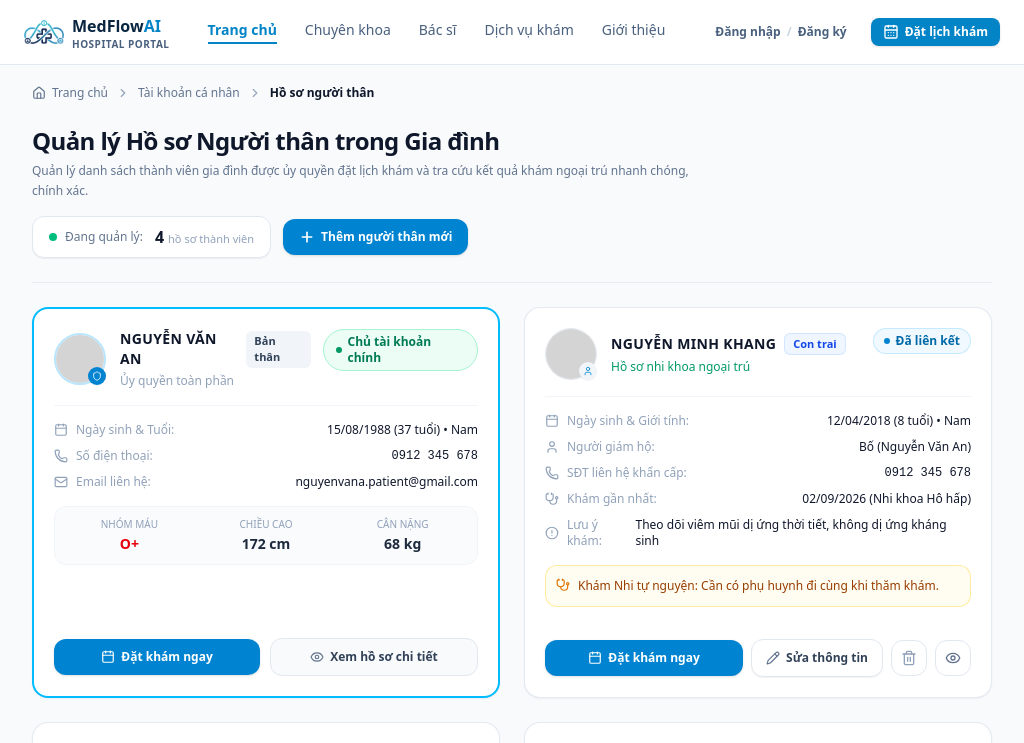
Test: Remove Family Profile (M2-001) › cho phép mở modal gỡ liên kết từ nút icon thùng rác trên trang danh sách
The width and height of the screenshot is (1024, 743).
Click the button named "Gỡ liên kết NGUYỄN MINH KHANG" at (909, 658), box [891, 640, 927, 676]
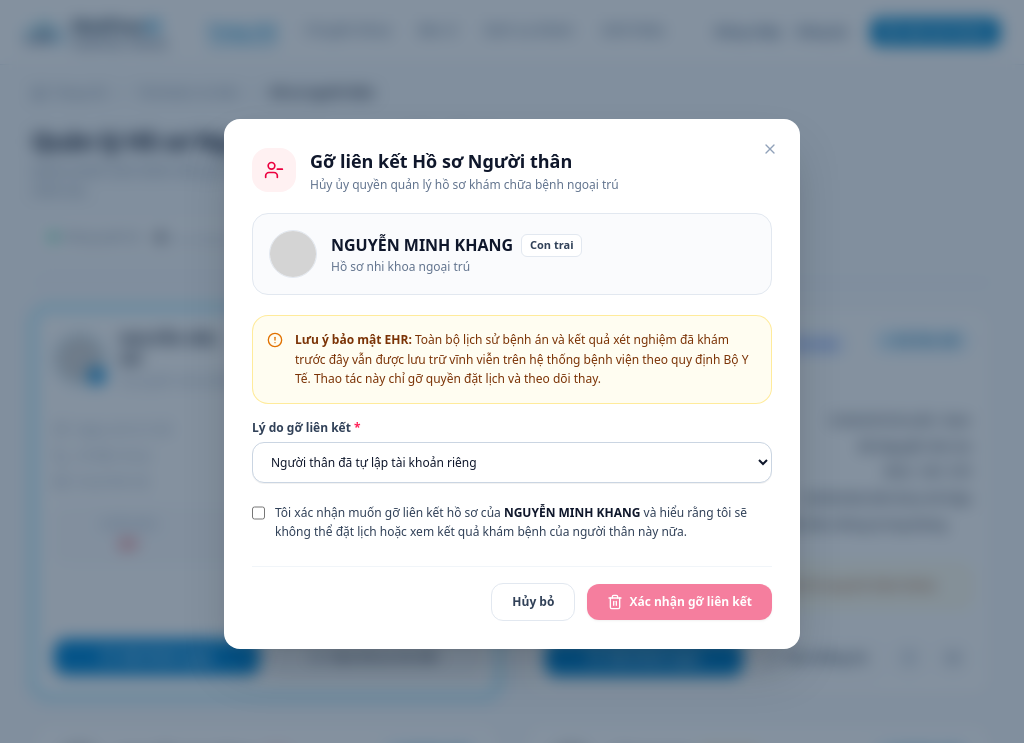
Check: the link "NGUYỄN MINH KHANG" is shown, box [611, 334, 776, 354]
Check: the heading "Gỡ liên kết Hồ sơ Người thân" is shown, box [310, 149, 572, 173]
